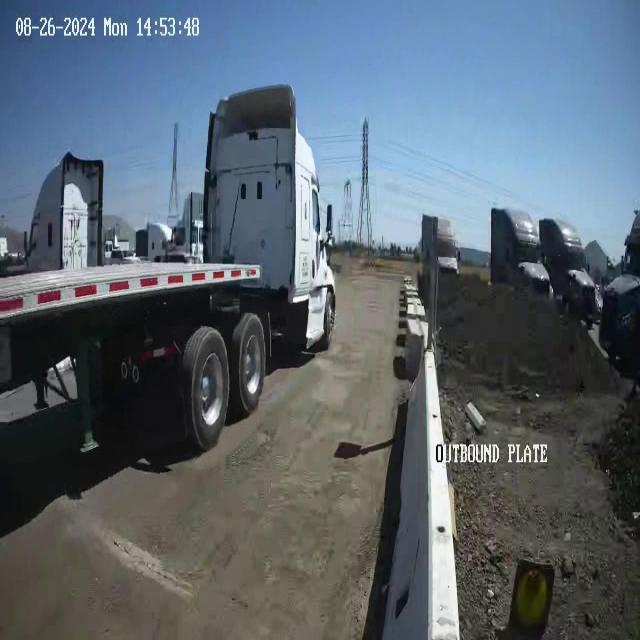BOBTAIL: (1, 81, 337, 462)
